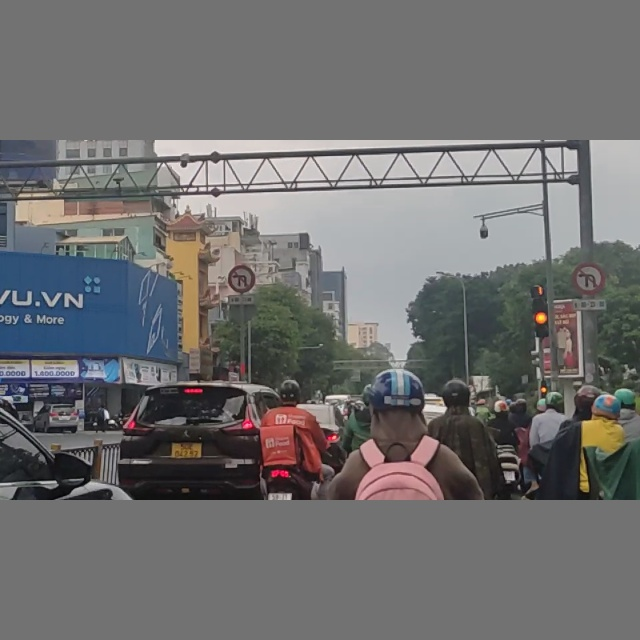P.124c: (575, 264, 602, 291), (227, 265, 253, 291)
